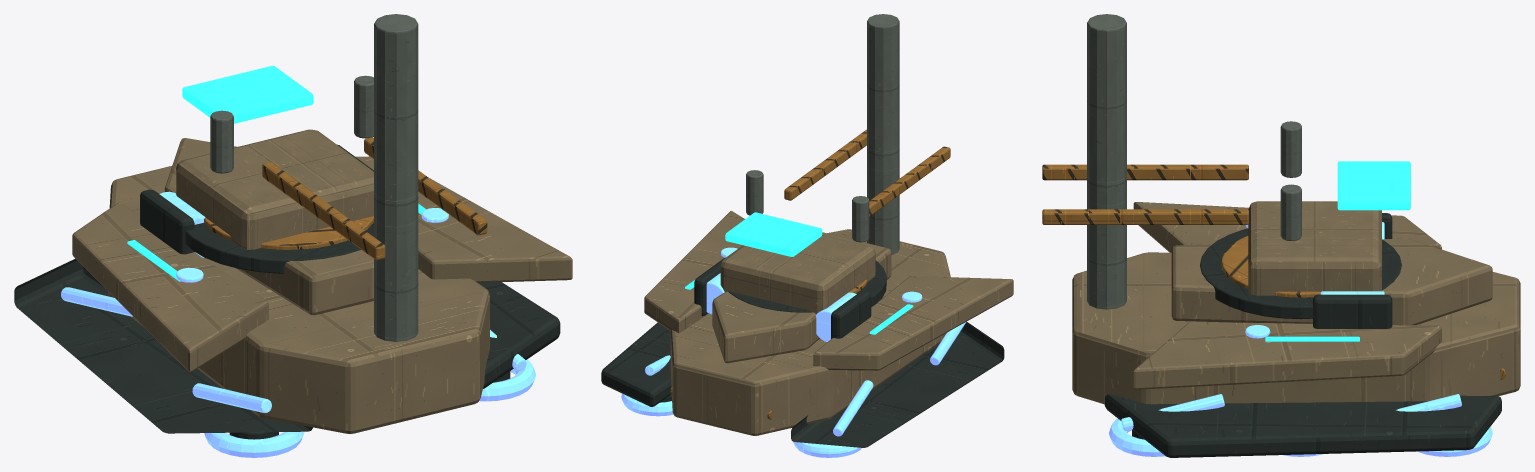
File: lumen_siege.glb
The picture shows the model from 3 angles, left to right: view 1: azimuth 30°, elevation 25°; view 2: azimuth 150°, elevation 25°; view 3: azimuth 270°, elevation 25°; orthographic projection. The views are drawn at different scales.
Parts seen in each view (by area): view 1: Prisma · swept faceted hover hull, Faction detail · Vehicle / armor_light.010, Faction detail · Vehicle / dark.010, Extended siege cannon, Raised armored traversing turret, Faction detail · Vehicle / energy.004, Faction detail · Vehicle / hazard.010, TeamColor, Independent traverse race, Faction detail · Vehicle / steel.010; view 2: Faction detail · Vehicle / armor_light.010, Prisma · swept faceted hover hull, Faction detail · Vehicle / dark.010, Raised armored traversing turret, Extended siege cannon, Faction detail · Vehicle / energy.004, Faction detail · Vehicle / hazard.010, TeamColor, Faction detail · Vehicle / steel.010, Independent traverse race; view 3: Faction detail · Vehicle / armor_light.010, Prisma · swept faceted hover hull, Faction detail · Vehicle / dark.010, Extended siege cannon, Raised armored traversing turret, Faction detail · Vehicle / hazard.010, Independent traverse race, TeamColor, Faction detail · Vehicle / energy.004, Faction detail · Vehicle / steel.010, TeamColor flank details.
Part boxes in pixels (x1,y1,x2,y2): Prisma · swept faceted hover hull: (108,166,489,433); Faction detail · Vehicle / armor_light.010: (72,138,572,372); Faction detail · Vehicle / dark.010: (14,144,560,439); Extended siege cannon: (374,14,418,341); Raised armored traversing turret: (176,129,373,249); Faction detail · Vehicle / energy.004: (61,191,535,457); Faction detail · Vehicle / hazard.010: (204,137,487,260); TeamColor: (182,65,313,123); Independent traverse race: (185,222,373,273); Faction detail · Vehicle / steel.010: (210,75,373,173); Faction detail · Vehicle / armor_light.010: (644,211,1013,370); Prisma · swept faceted hover hull: (670,229,950,435); Faction detail · Vehicle / dark.010: (601,258,1004,447); Raised armored traversing turret: (720,235,875,314); Extended siege cannon: (867,14,899,254); Faction detail · Vehicle / energy.004: (621,247,966,457); Faction detail · Vehicle / hazard.010: (784,129,950,293); TeamColor: (725,212,822,256); Faction detail · Vehicle / steel.010: (746,170,869,242); Independent traverse race: (728,260,886,312); Faction detail · Vehicle / armor_light.010: (1133,202,1492,389); Prisma · swept faceted hover hull: (1072,252,1520,404); Faction detail · Vehicle / dark.010: (1104,213,1501,457); Extended siege cannon: (1087,14,1126,309); Raised armored traversing turret: (1248,201,1381,295); Faction detail · Vehicle / hazard.010: (1042,164,1320,297); Independent traverse race: (1200,228,1401,319); TeamColor: (1337,161,1410,210); Faction detail · Vehicle / energy.004: (1109,222,1492,456); Faction detail · Vehicle / steel.010: (1280,121,1301,240); TeamColor flank details: (1265,336,1359,341).
Size of the model in its own units: 3.5 by 3.5 by 4.05.
9 materials, 9 textured.
